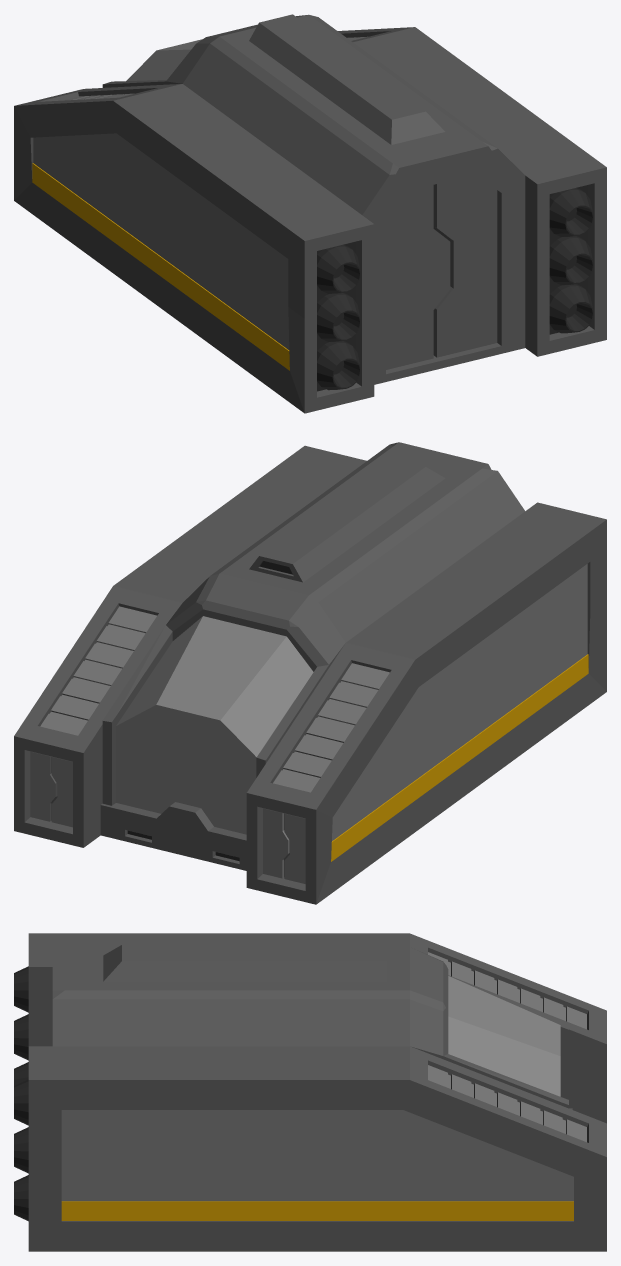
The model's file is CargoShip.fbx.
3 views of the same model, one above another, from view 1: azimuth 30°, elevation 25°; view 2: azimuth 150°, elevation 25°; view 3: azimuth 270°, elevation 25° (orthographic).
Parts seen in each view (by area): view 1: CargoShipOpen, CargoDoor; view 2: CargoShipOpen; view 3: CargoShipOpen.
Part boxes in pixels (x1,y1,x2,y2): CargoShipOpen: [14, 14, 606, 413]; CargoDoor: [386, 173, 497, 369]; CargoShipOpen: [14, 442, 606, 904]; CargoShipOpen: [14, 933, 606, 1251].
Size of the model in its own units: 300 by 215 by 513.
